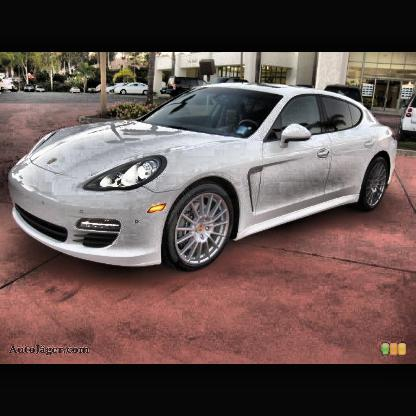Porsche Panamera Sedan 2012: (9, 83, 400, 275)
